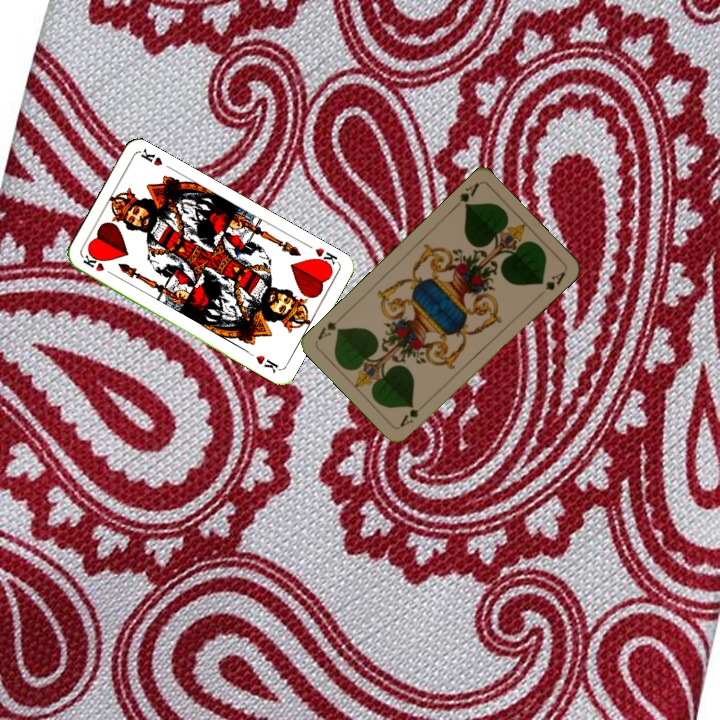GA: (449, 179, 481, 212), (396, 398, 429, 429)
HK: (79, 251, 117, 279), (310, 244, 340, 272)
